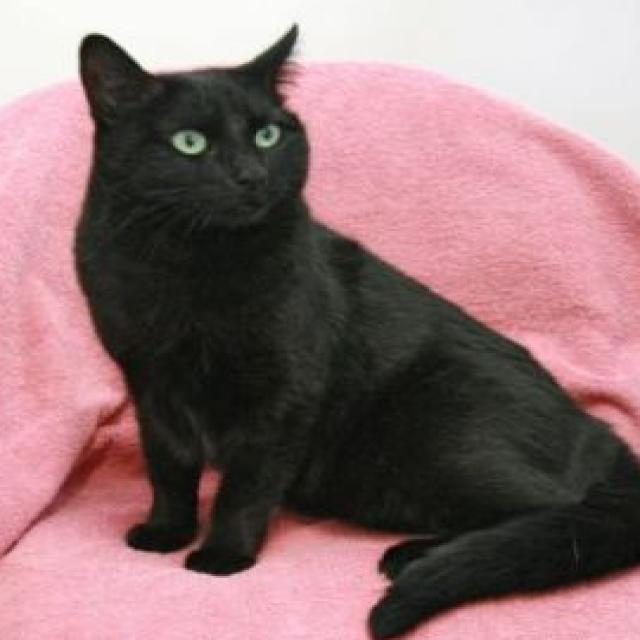Bombay: (68, 15, 640, 640)
